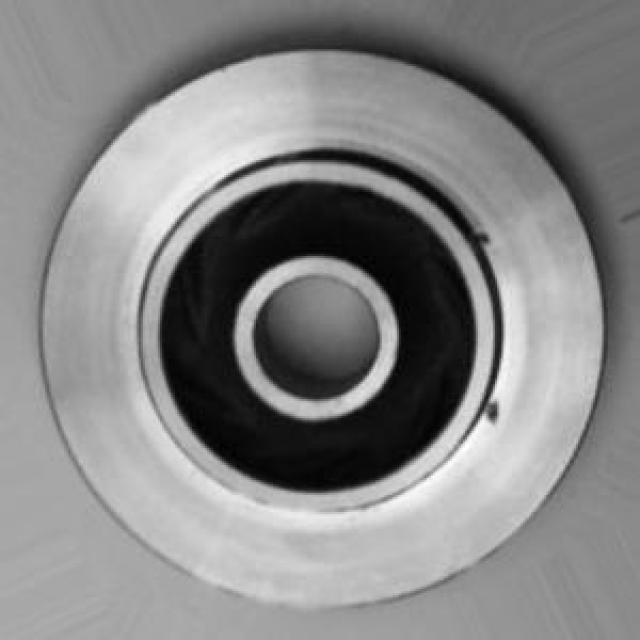Defect: (470, 223, 501, 258), (480, 396, 506, 430)
